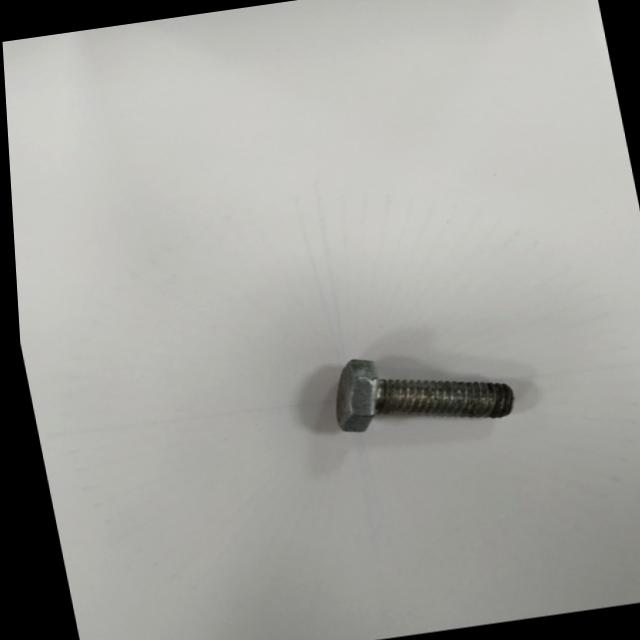Bolt: (331, 360, 508, 431)
